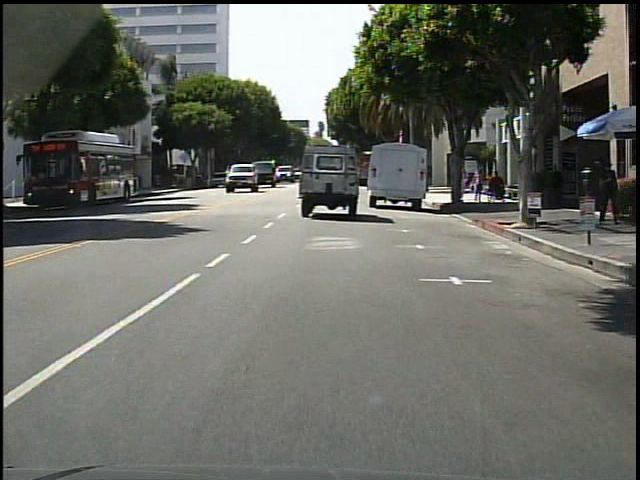person: (596, 164, 618, 228), (458, 162, 470, 204), (474, 167, 487, 204)
